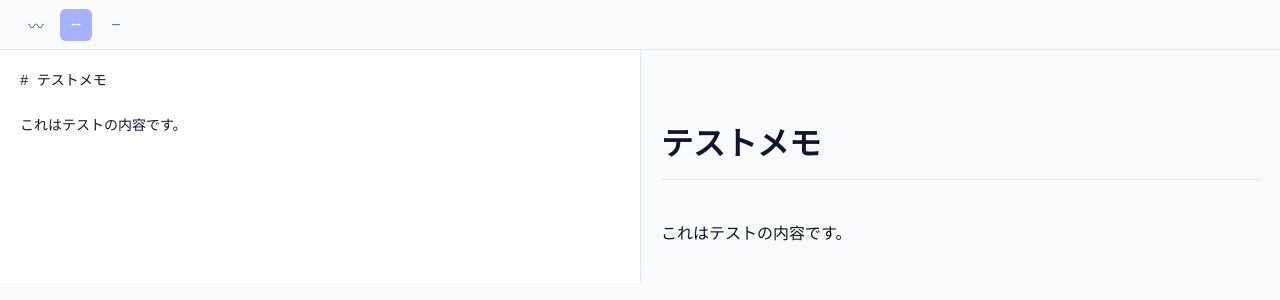
it: MemoEditor - 追加機能テスト › previewモードではプレビューエリアのみ表示される
The image size is (1280, 300).
Note: Previewモードに切り替え
Click the button titled "Preview": (116, 24) left=100, top=8, right=132, bottom=40
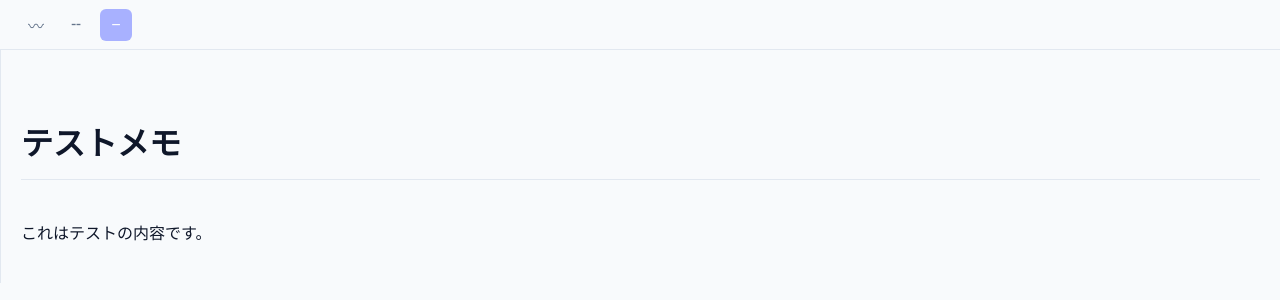
Now the element with class "full-width" is shown
